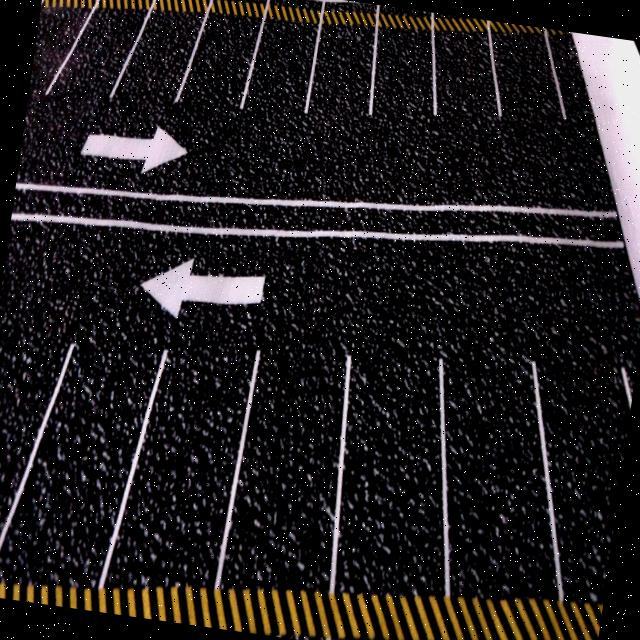slots: (0, 250, 168, 586), (106, 303, 257, 587), (336, 293, 444, 595), (444, 314, 557, 599), (222, 329, 345, 589), (537, 316, 631, 601), (0, 323, 69, 535), (175, 14, 261, 146), (52, 10, 145, 114), (114, 10, 204, 117), (245, 21, 317, 135), (309, 20, 375, 134), (492, 32, 562, 129), (435, 30, 497, 136), (27, 7, 87, 110), (375, 29, 433, 122)
